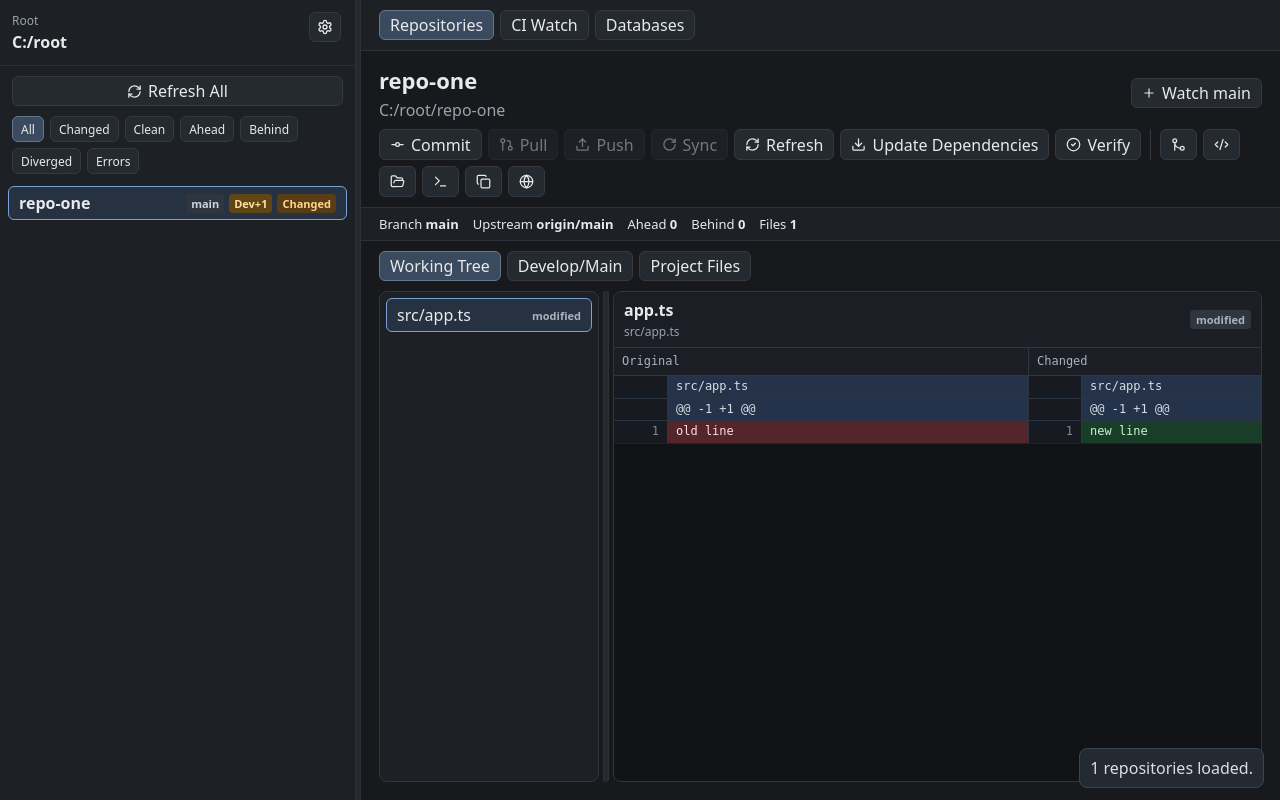
Test: App UI smoke › shows a remote preview error without allowing a write
Step 1. Click the button named "Merge origin/develop into origin/main" → {"x": 1179, "y": 144}, box [1160,129,1197,160]
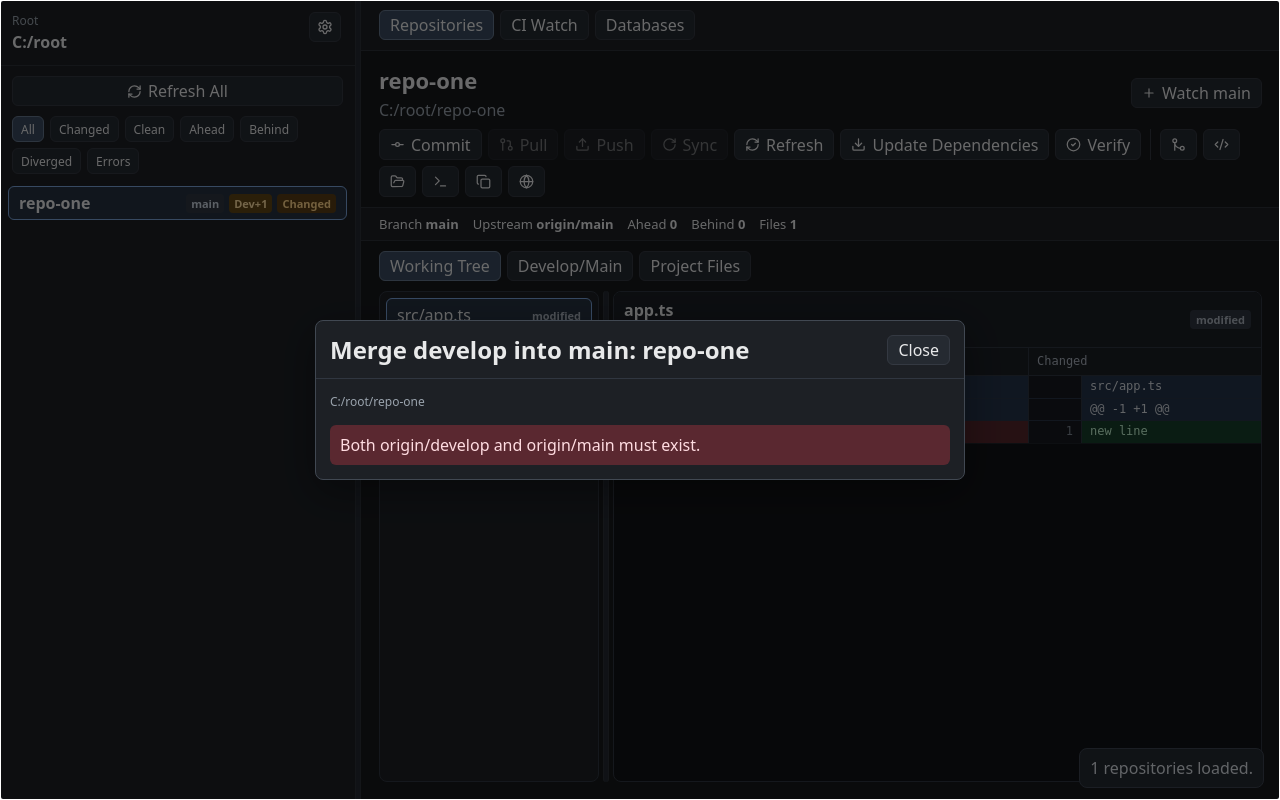
Now the message reads "Both origin/develop and origin/main must exist.", box [340,434,700,456]
